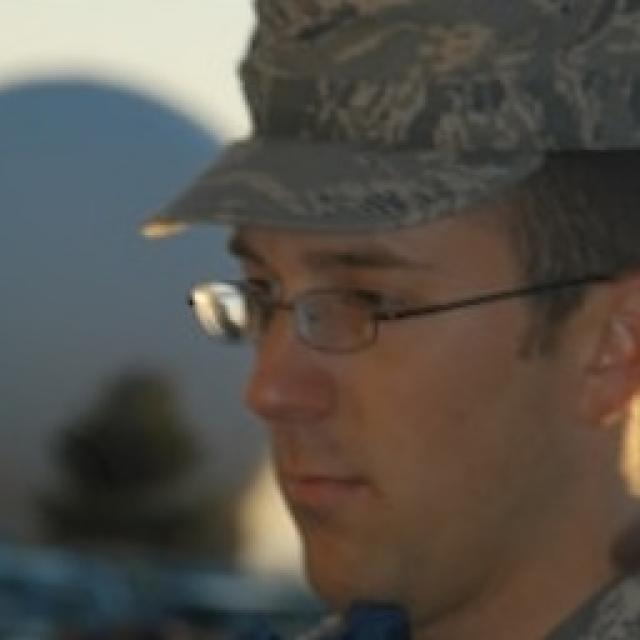glasses: (182, 273, 627, 357)
